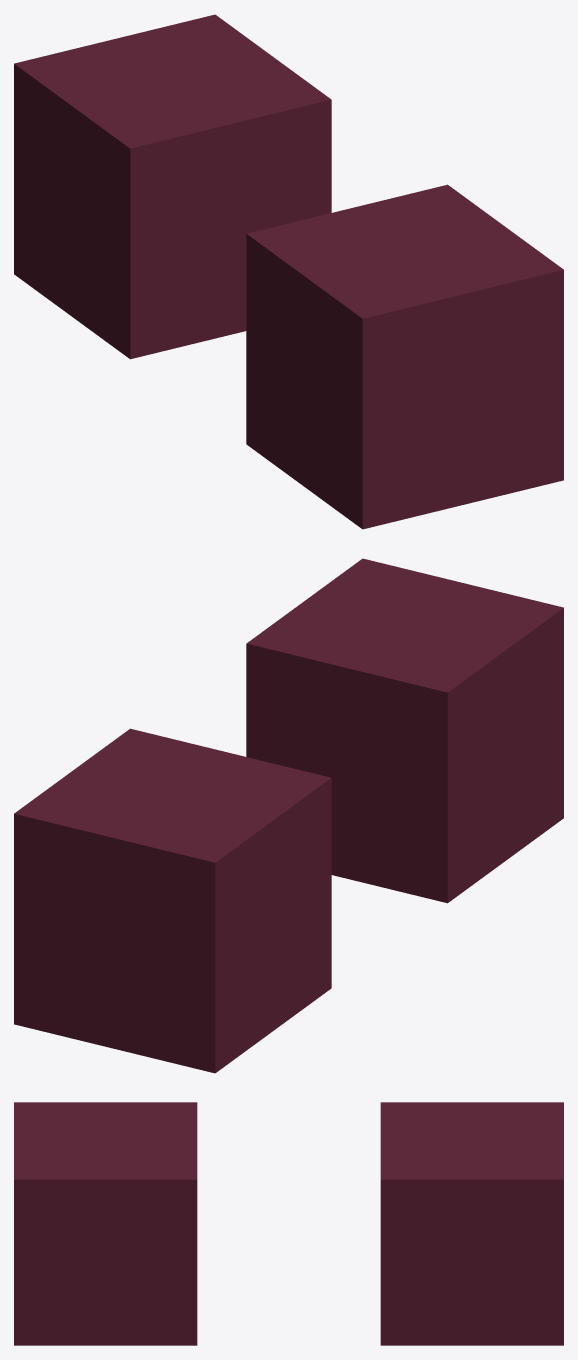
The model's file is orc-2-eyes_awake.obj.
3 views of the same model, one above another, from view 1: azimuth 30°, elevation 25°; view 2: azimuth 150°, elevation 25°; view 3: azimuth 270°, elevation 25° (orthographic). The views are drawn at different scales.
Parts seen in each view (by area): view 1: eyes_awake; view 2: eyes_awake; view 3: eyes_awake.
Part boxes in pixels (x1,y1,x2,y2): eyes_awake: (14, 14, 563, 529); eyes_awake: (14, 558, 563, 1073); eyes_awake: (14, 1102, 563, 1345).
Bounding box in the file's own units: 0.1 × 0.1 × 0.3.
1 material, 1 textured.
